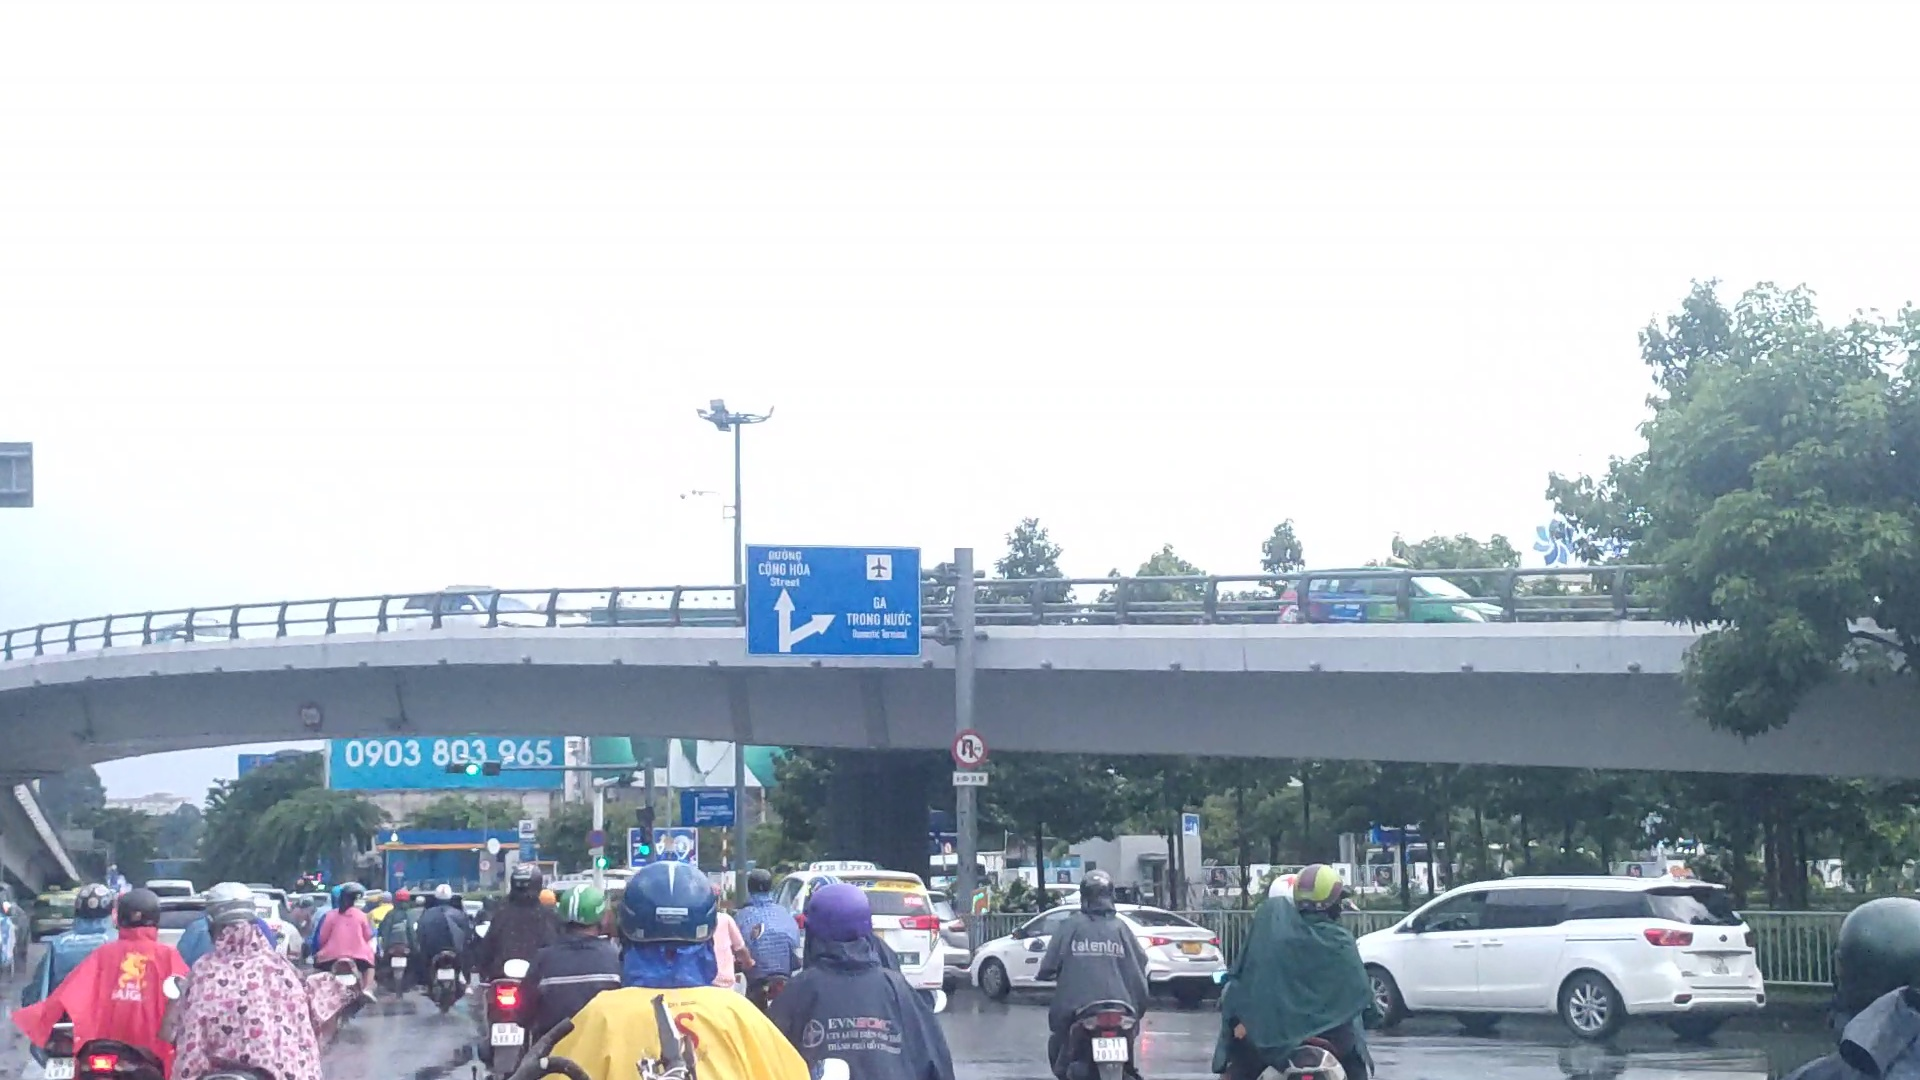P.124b1: (952, 731, 988, 767)
